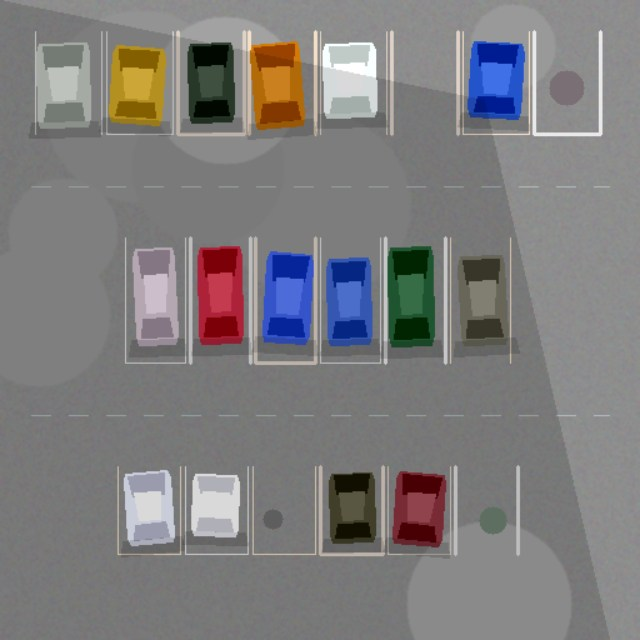space-empty: (391, 31, 458, 134), (534, 31, 600, 134), (252, 466, 315, 554), (455, 466, 518, 554)
space-occupied: (125, 238, 185, 362), (190, 238, 250, 362), (255, 238, 315, 362), (320, 238, 380, 362), (385, 238, 445, 362), (450, 238, 510, 362), (462, 31, 529, 134), (35, 31, 101, 134), (106, 31, 172, 134), (178, 31, 244, 134), (249, 31, 315, 134), (320, 31, 386, 134), (185, 466, 248, 554), (118, 466, 180, 554), (320, 466, 382, 554), (388, 466, 450, 554)
